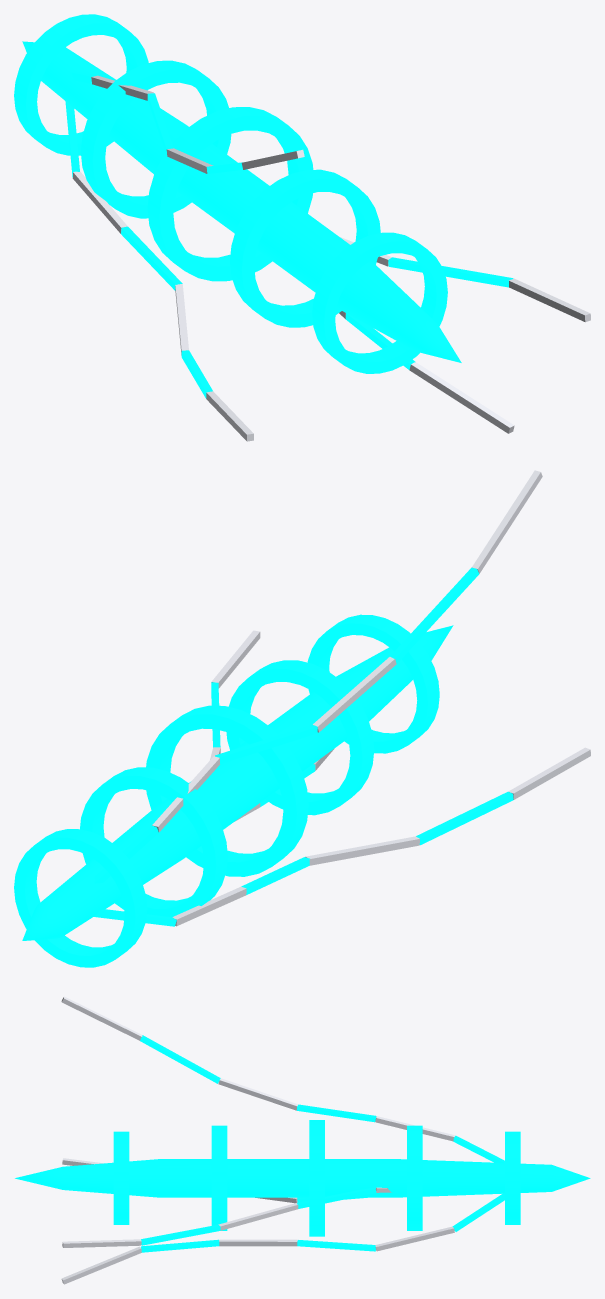
File: SpaceShotgun_Bolt.fbx
The picture shows the model from 3 angles, top to bottom: view 1: azimuth 30°, elevation 25°; view 2: azimuth 150°, elevation 25°; view 3: azimuth 270°, elevation 25°; orthographic projection. The views are drawn at different scales.
Visible parts, largest first — view 1: Bolt_Proyectil_Iones; view 2: Bolt_Proyectil_Iones; view 3: Bolt_Proyectil_Iones.
Part boxes in pixels (<box>): Bolt_Proyectil_Iones: <box>14,14,590,441</box>; Bolt_Proyectil_Iones: <box>14,470,590,967</box>; Bolt_Proyectil_Iones: <box>15,996,590,1284</box>.
Size of the model in its own units: 29.31 by 27.15 by 64.9.
